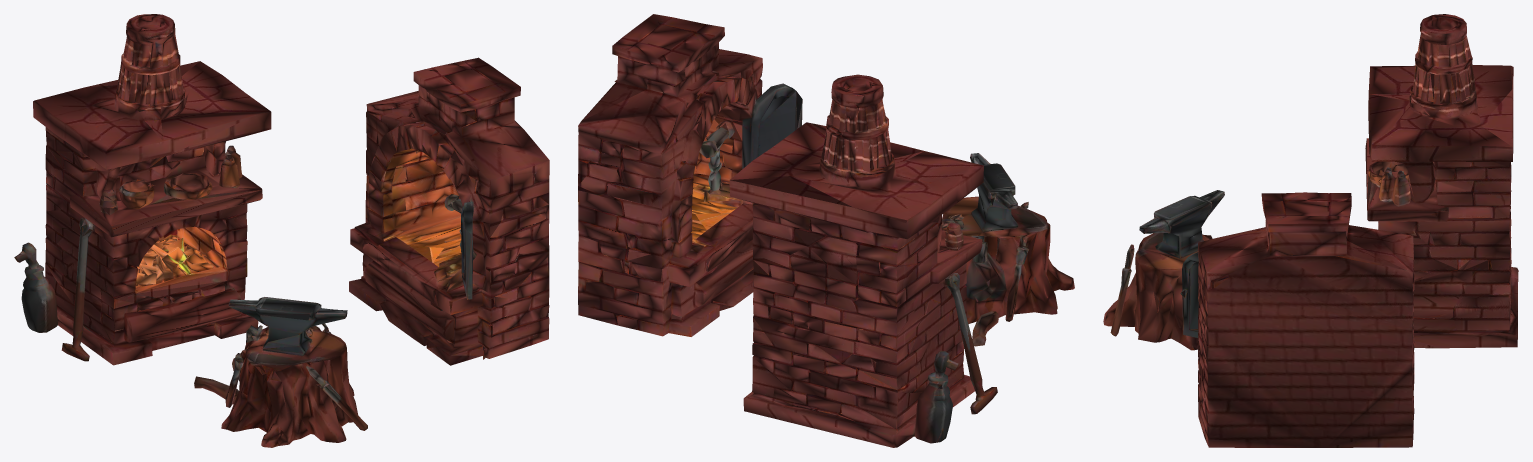
Rendered from forge_pap.glb.
3 renders of one model, left to right at view 1: azimuth 30°, elevation 25°; view 2: azimuth 150°, elevation 25°; view 3: azimuth 270°, elevation 25°, orthographic. The views are drawn at different scales.
Visible parts, largest first — view 1: forge_pap; view 2: forge_pap; view 3: forge_pap.
Part boxes in pixels (bbox=[...]): forge_pap: bbox=[14, 14, 549, 447]; forge_pap: bbox=[578, 14, 1074, 447]; forge_pap: bbox=[1103, 14, 1518, 447].
Size of the model in its own units: 2.3 by 1.65 by 2.13.
1 material, 1 textured.
